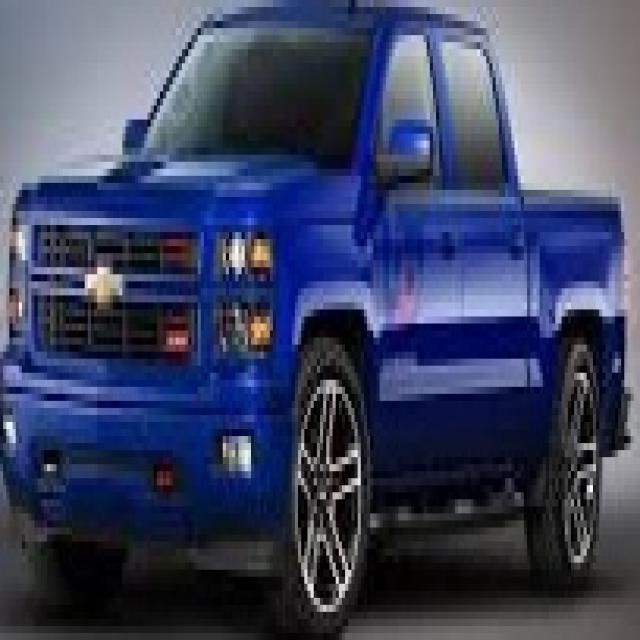blue: (6, 14, 640, 542)
